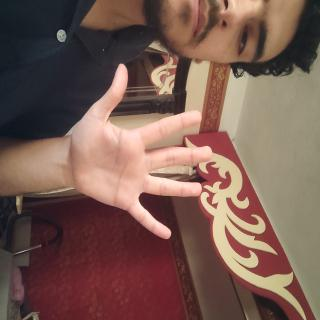SHEEN: (46, 139, 180, 320)
